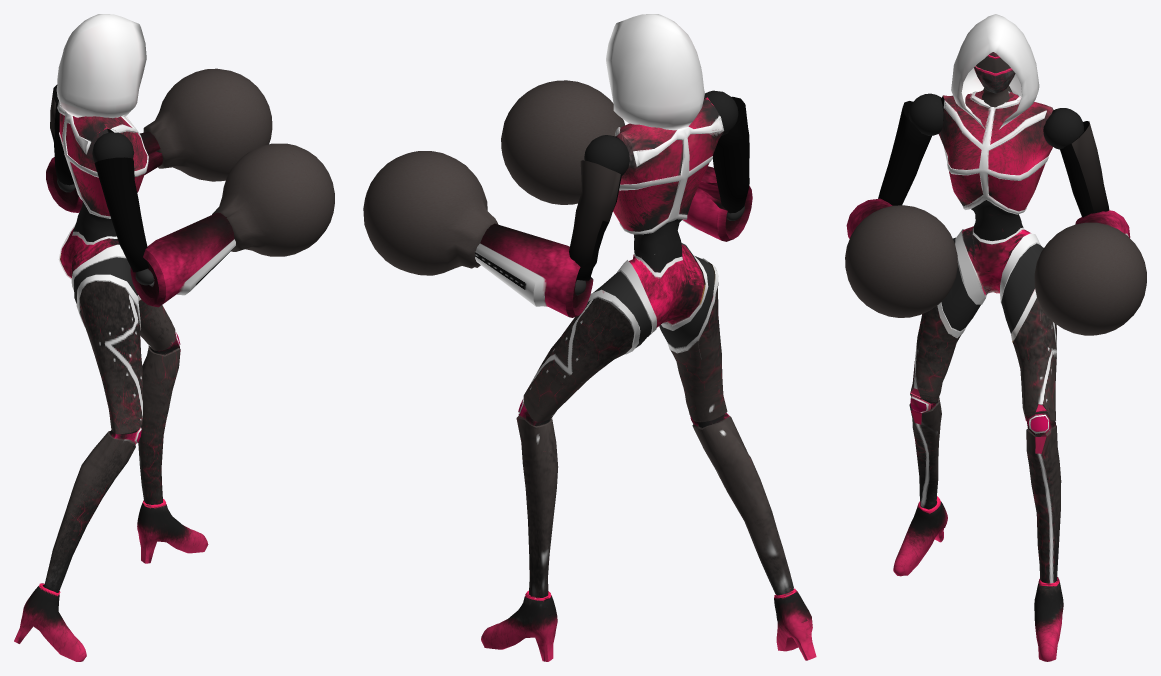
File: Neutral.obj
3 views of the same model, side by side, from view 1: azimuth 30°, elevation 25°; view 2: azimuth 150°, elevation 25°; view 3: azimuth 270°, elevation 25° (orthographic). The views are drawn at different scales.
Bounding box in the file's own units: 2.43 × 4.2 × 1.94.
1 material, 1 textured.
